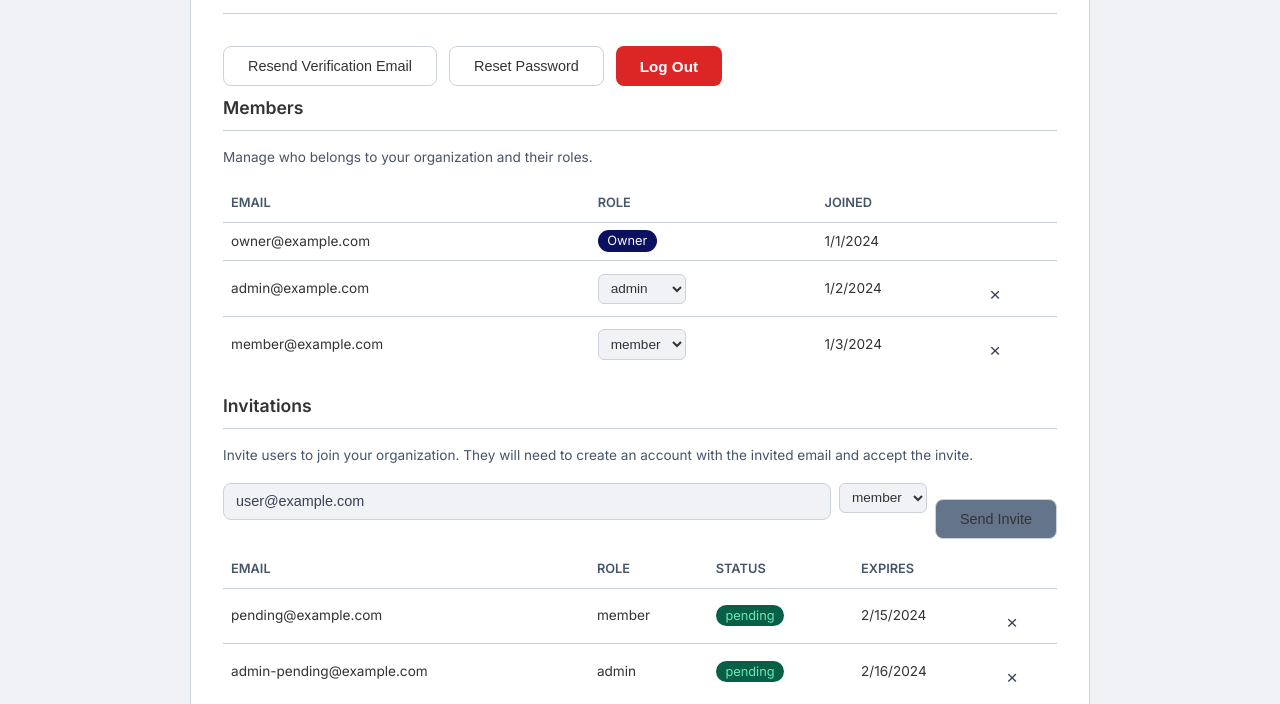
Scenario: SettingsPage - Member Management › Members Section - Role Management › shows success message after role update
(page scrolled)
Expected: the text "member@example.com" is shown, [223,317,590,372]
Select "admin" in the dropdown in the row of "member@example.com" at (642, 344), box [598,329,686,360]
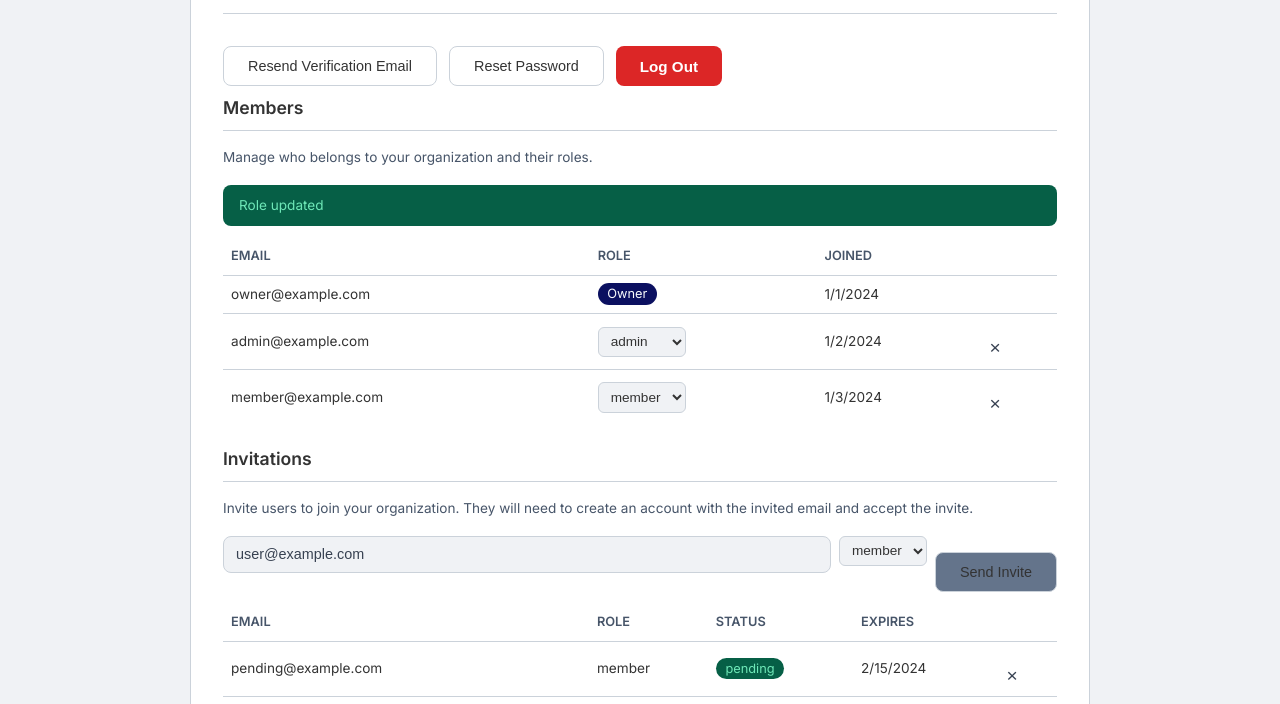
Result: the text "Role updated" is shown at [223,185,1057,226]
